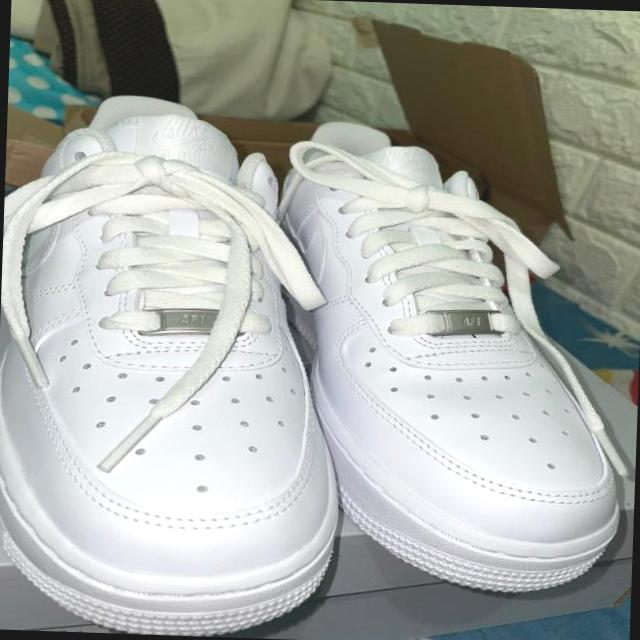nike_original_airforce: (0, 91, 350, 640), (259, 117, 640, 597)
